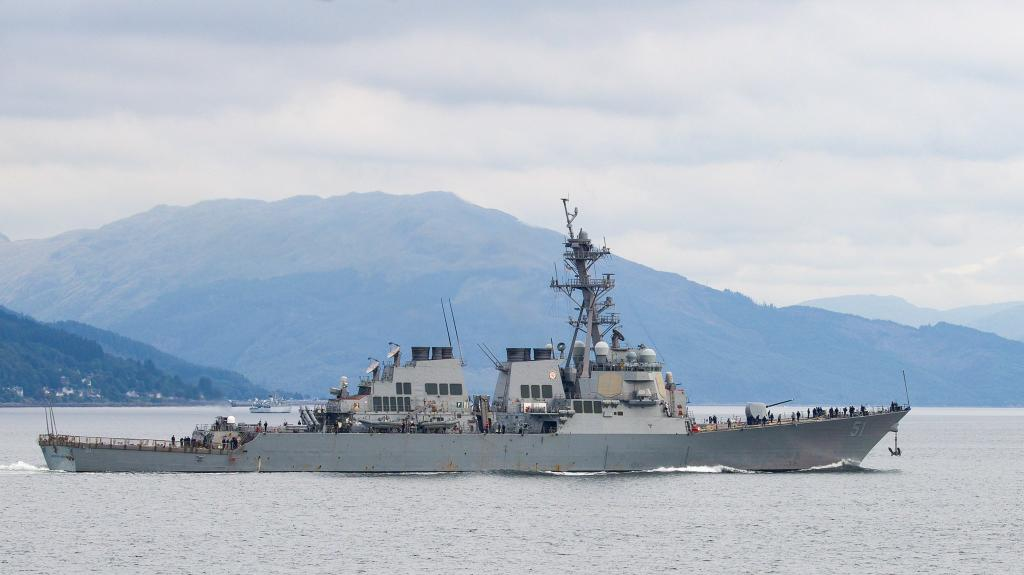Warship: (31, 188, 917, 479)
